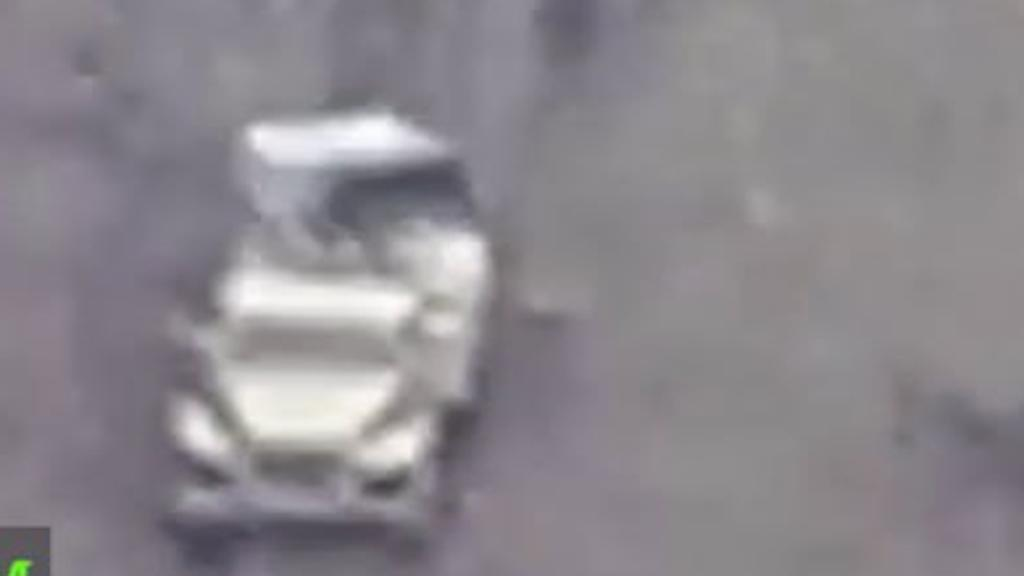MLRS: (160, 91, 510, 541)
